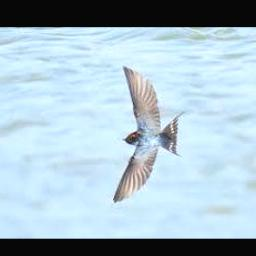Swallow: (114, 66, 188, 203)
